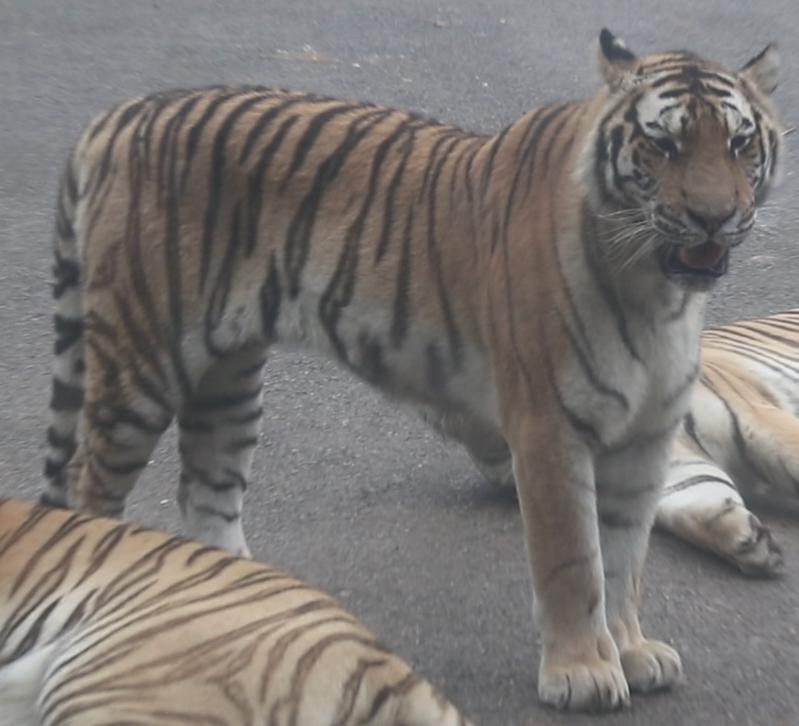tiger: (41, 30, 780, 708)
